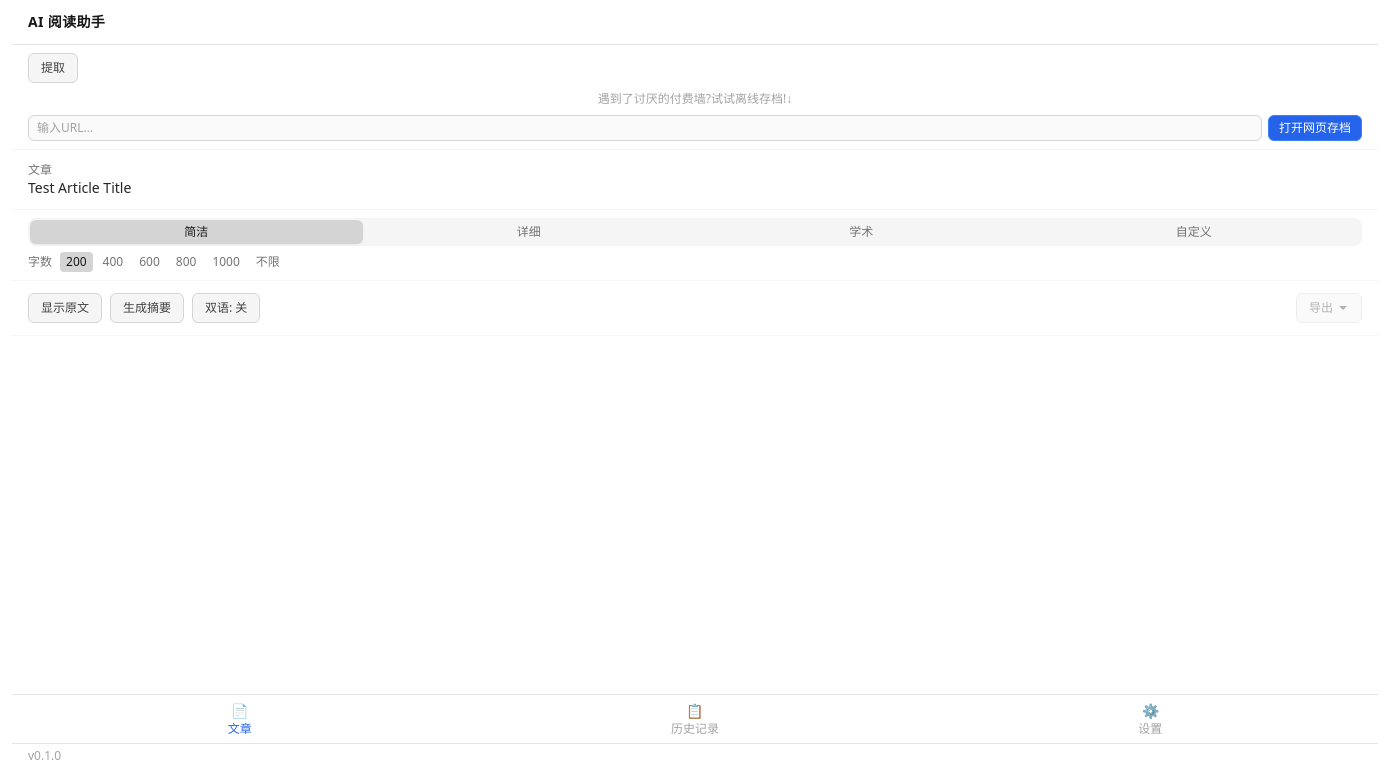
Test: App – summary flow › pauses and continues streaming correctly — background keeps running while paused
Expected: the heading "Test Article Title" is shown, x1=28 y1=178 x2=131 y2=197
Click the button "生成摘要": (147, 308) x1=110 y1=293 x2=184 y2=323
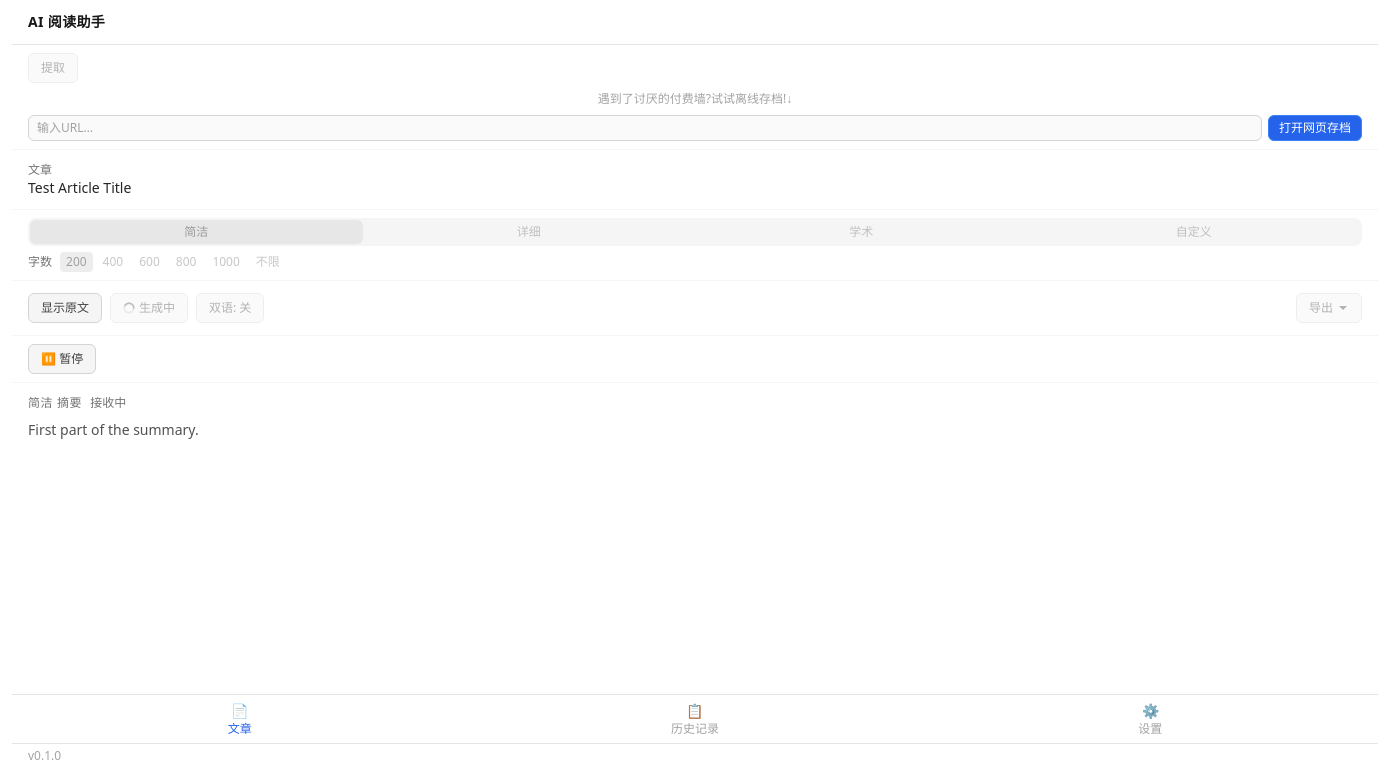
Result: the text "First part of the summary." is shown at x1=28 y1=420 x2=199 y2=439
Result: the button "⏸ 暂停" is shown
# Click pause — does NOT send any message to background
Click the button "⏸ 暂停": (62, 359) x1=28 y1=344 x2=96 y2=374
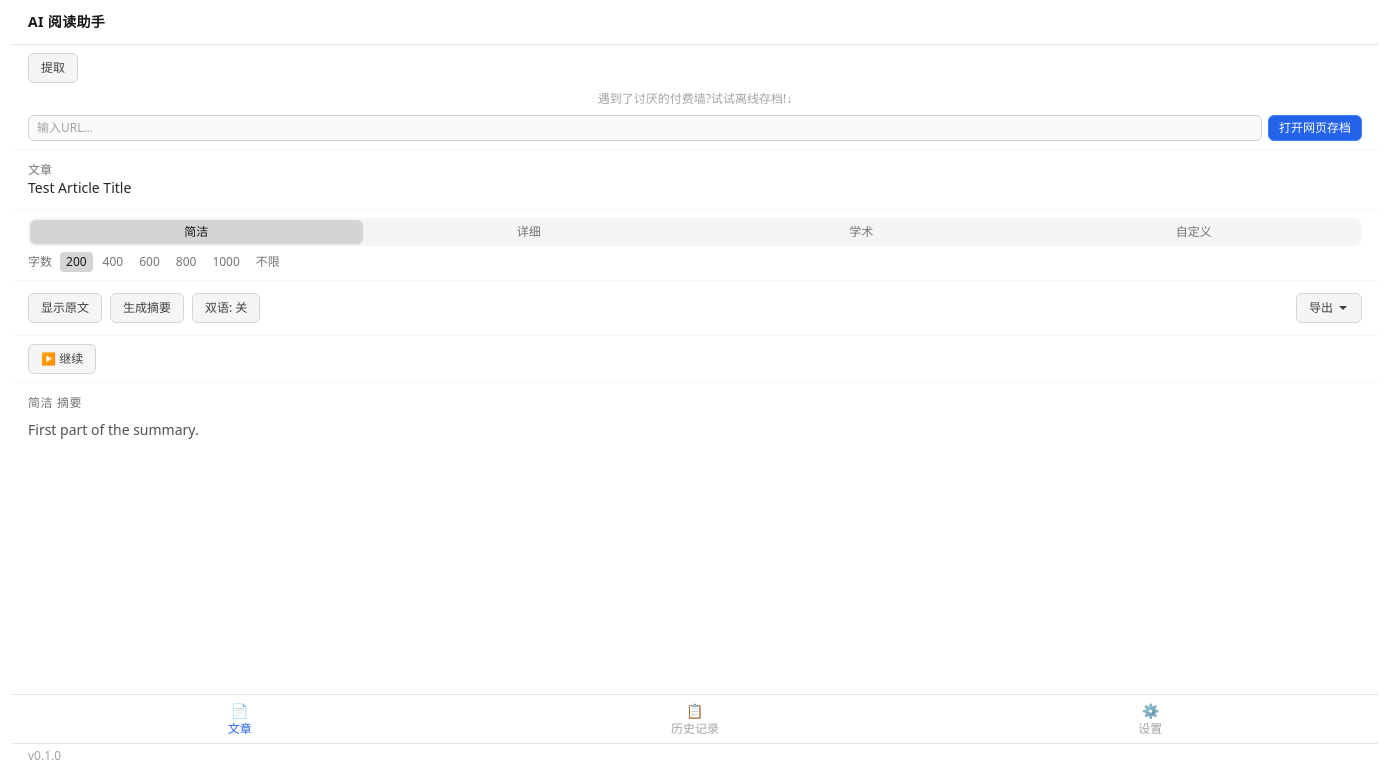
Result: the text "First part of the summary." is shown at x1=28 y1=420 x2=199 y2=439
Result: the button "▶ 继续" is shown
# Click Continue — no message sent to background, just resumes display
Click the button "▶ 继续": (62, 359) x1=28 y1=344 x2=96 y2=374
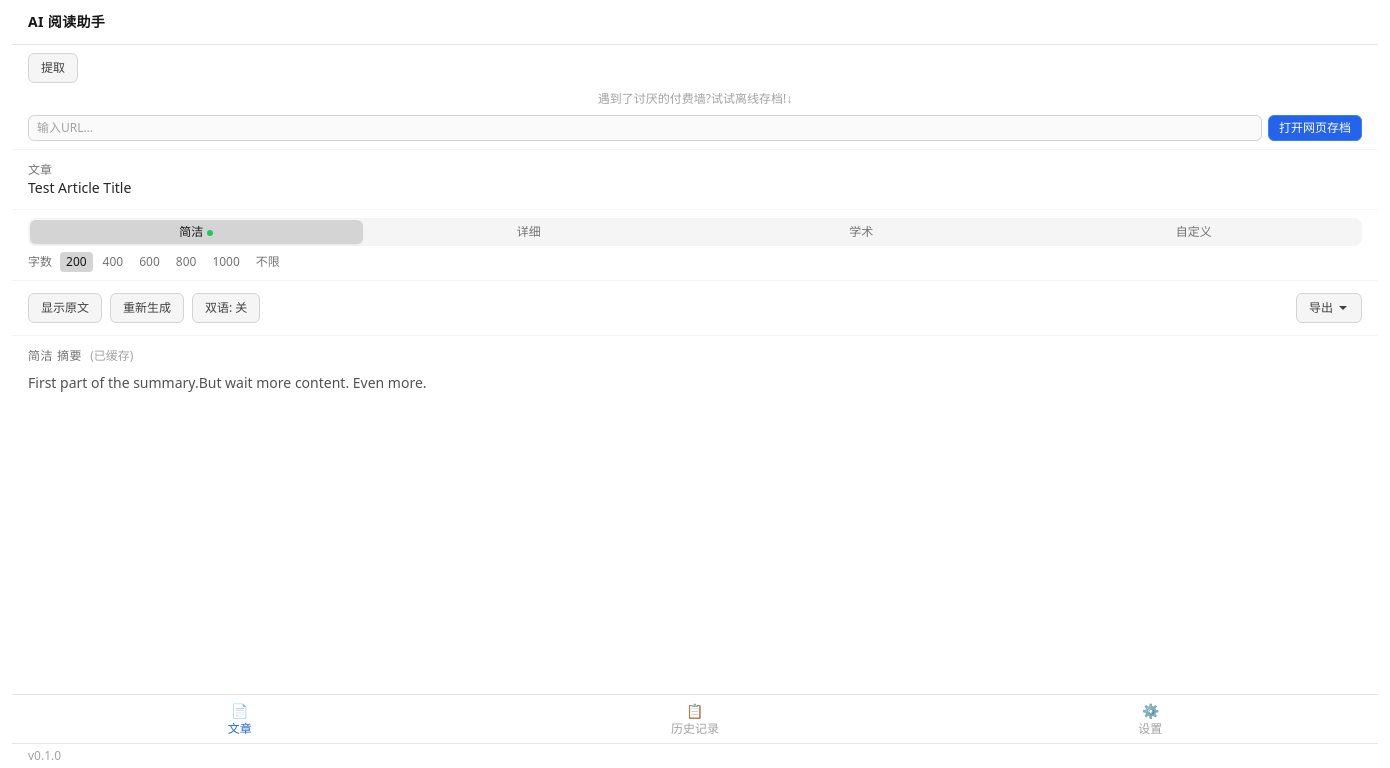
Result: the text "First part of the summary.But wait more content. Even more." is shown at x1=28 y1=373 x2=427 y2=392
